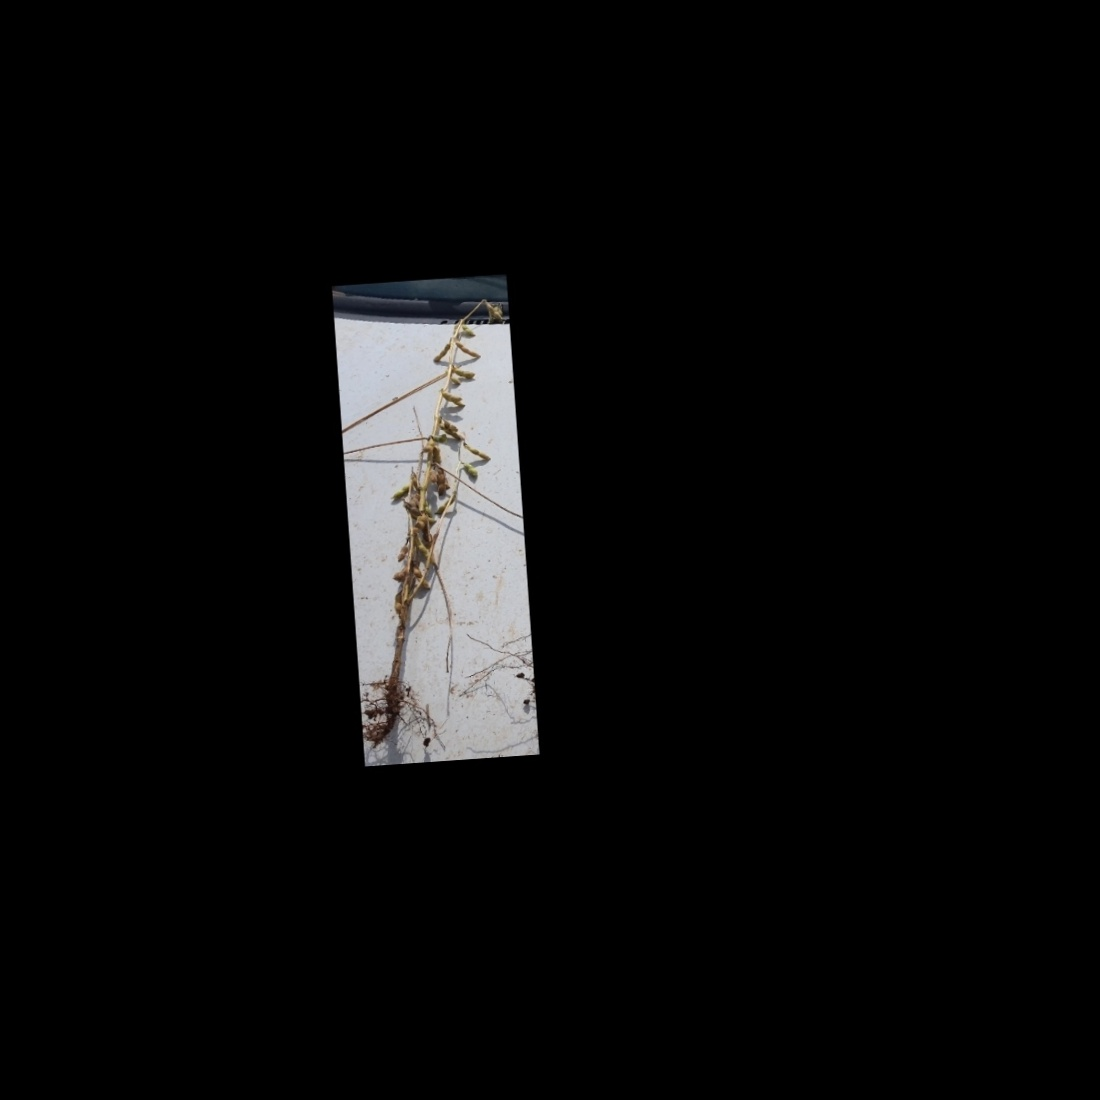pod: (454, 338, 482, 360), (465, 441, 491, 463), (430, 340, 450, 363), (388, 483, 413, 500), (392, 543, 409, 564), (463, 461, 479, 479), (454, 366, 476, 378), (461, 322, 476, 337), (450, 374, 463, 388)
soy: (345, 291, 537, 757)
